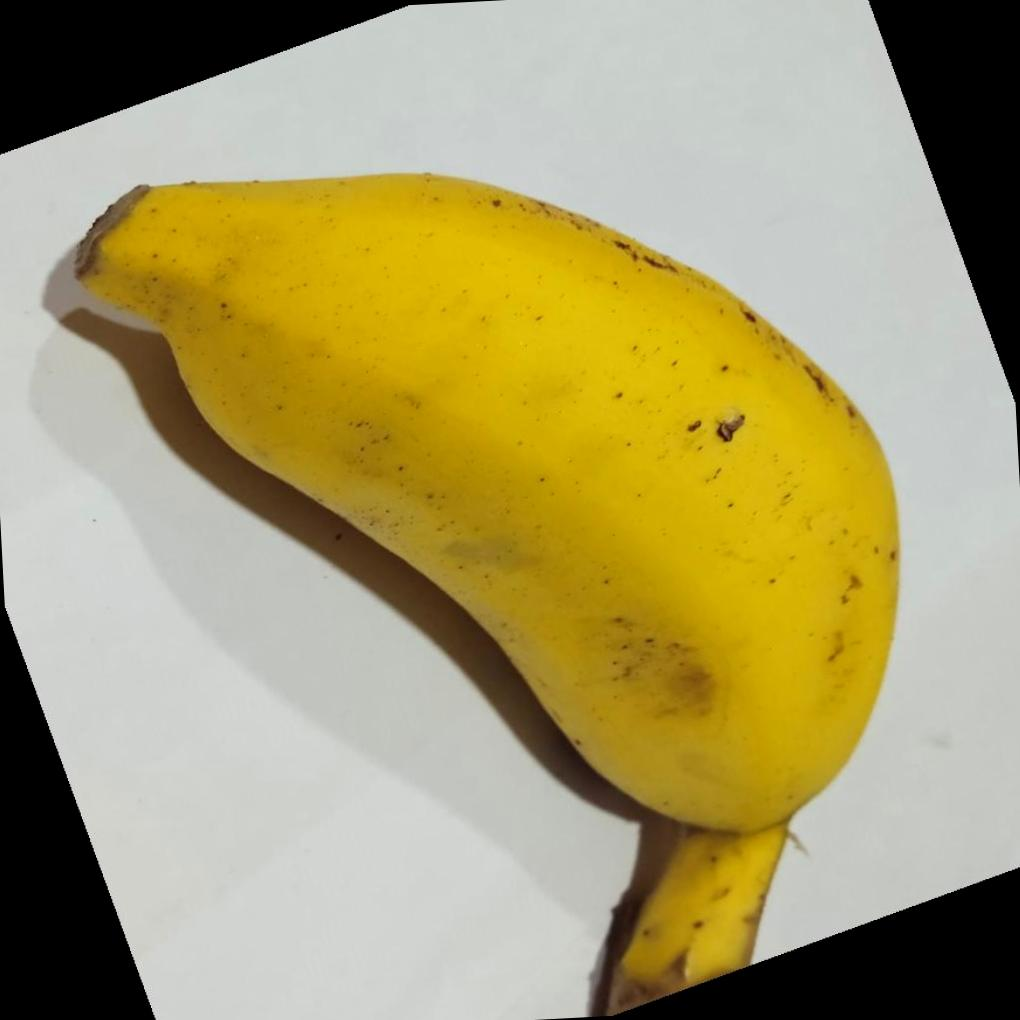Banana Ripe: (57, 96, 952, 1008)
